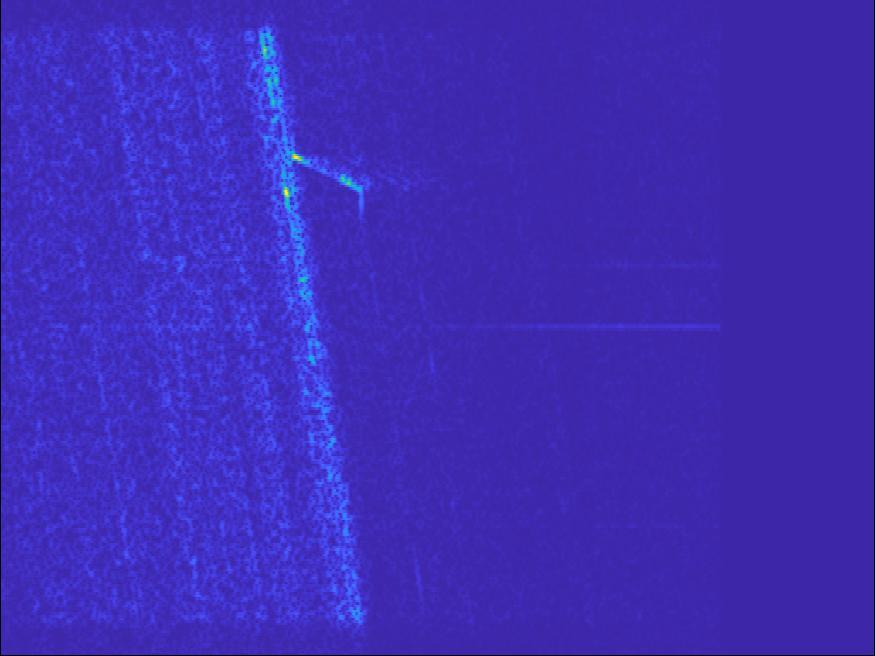Interference: (593, 286, 821, 369), (568, 107, 675, 156), (31, 477, 130, 515)
